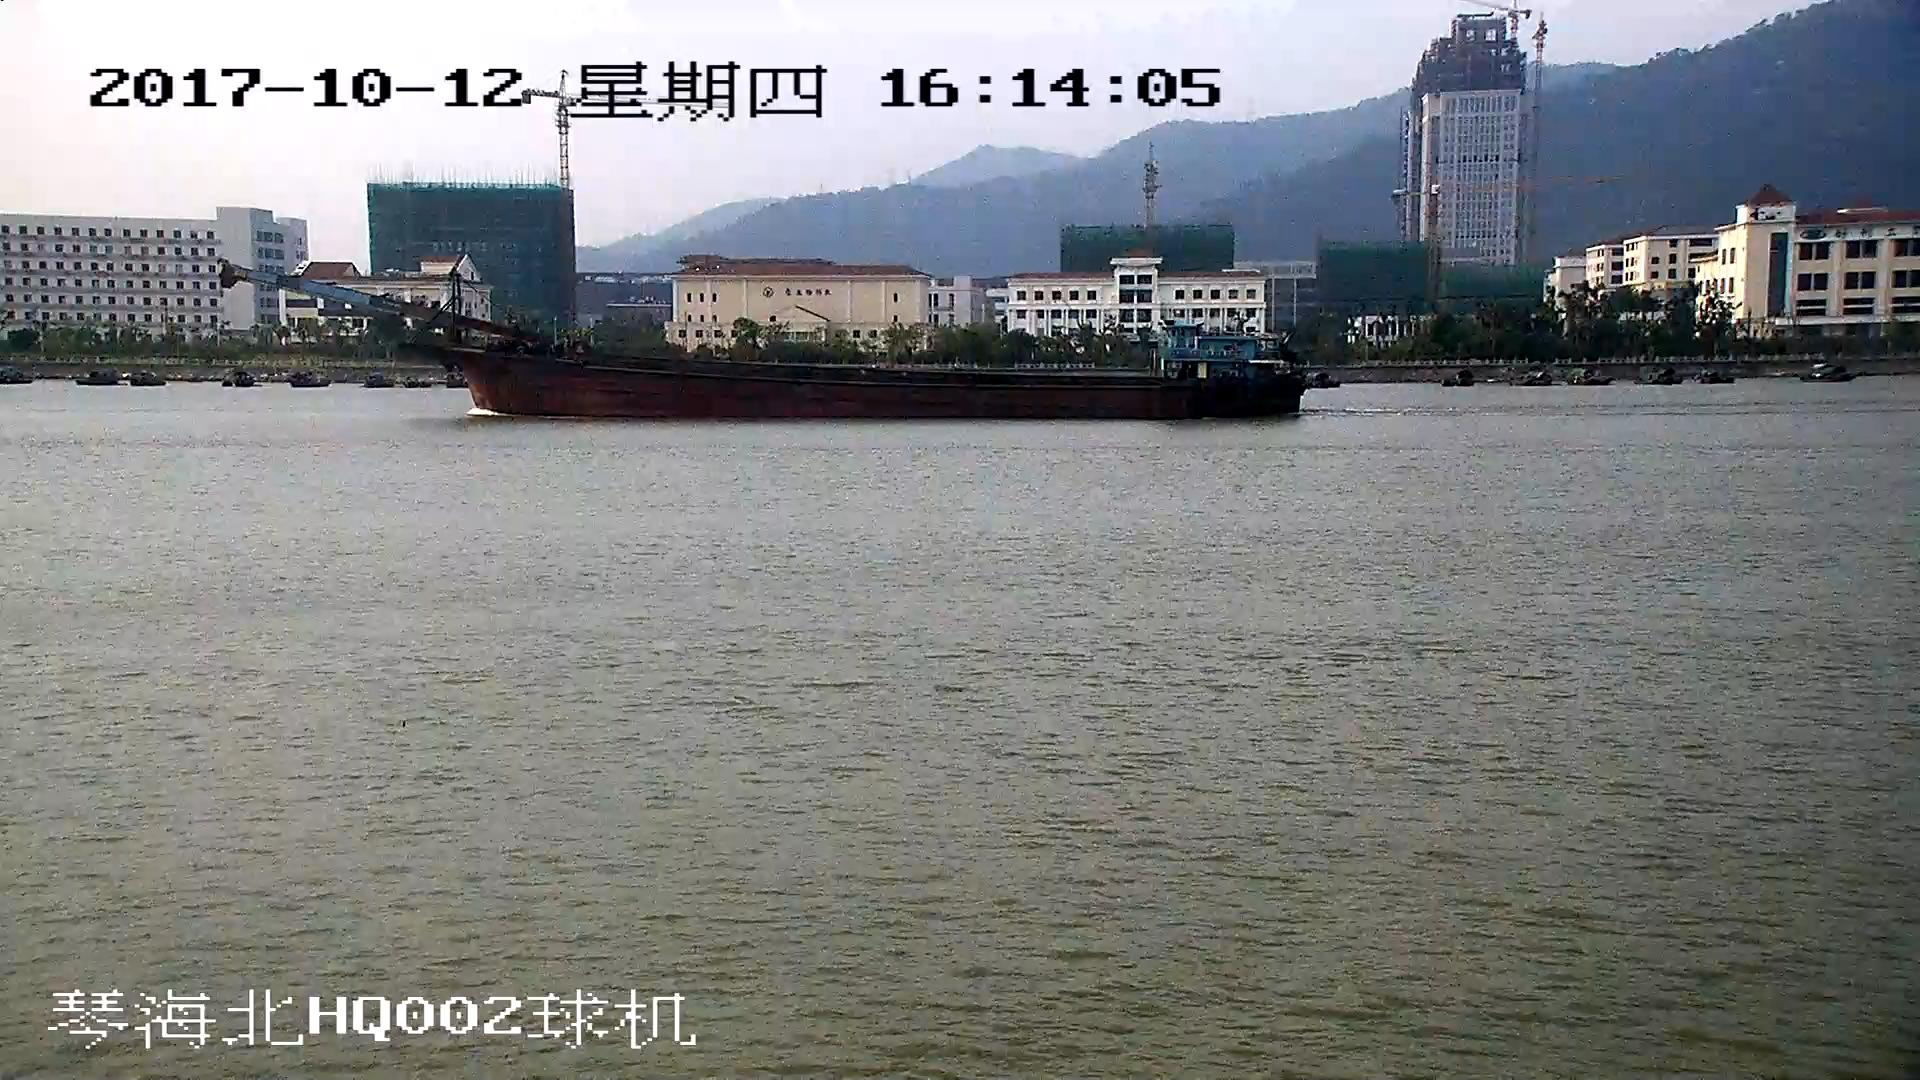bulk cargo carrier: (226, 268, 1306, 424)
